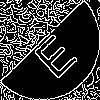E: (25, 25, 80, 81)
